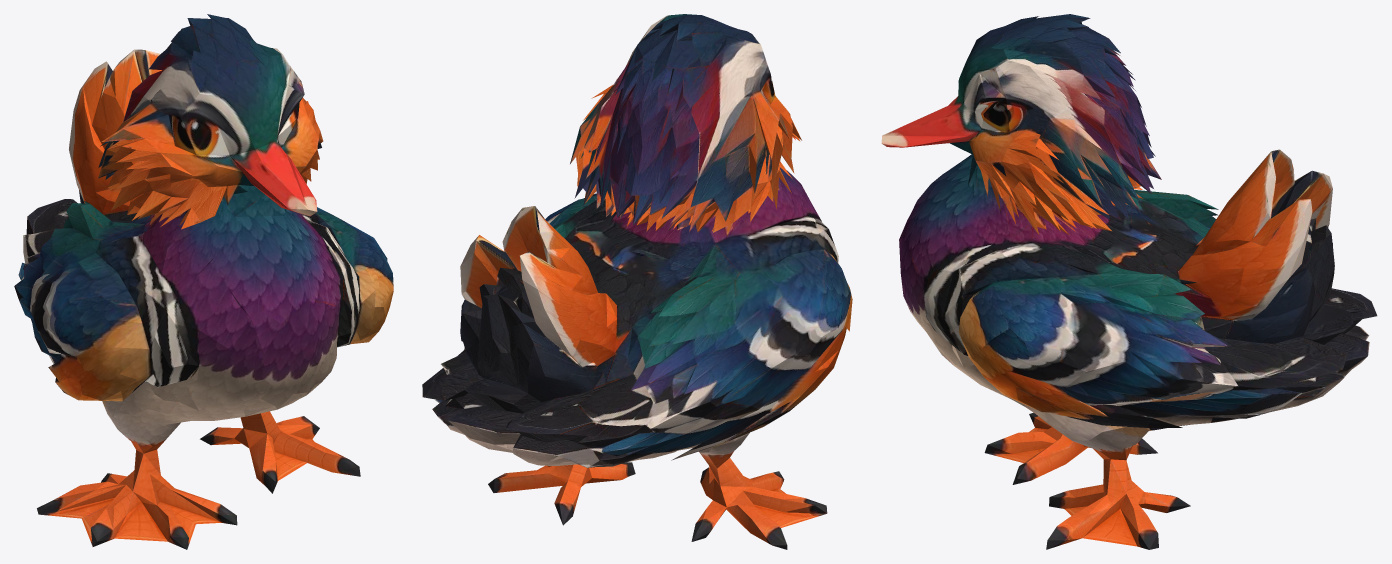
File: duck-stranger.glb
3 views of the same model, side by side, from view 1: azimuth 30°, elevation 25°; view 2: azimuth 150°, elevation 25°; view 3: azimuth 270°, elevation 25° (orthographic). The views are drawn at different scales.
Bounding box in the file's own units: 0.3092 × 0.45 × 0.4319.
Materials: 1 (1 with a texture image).
